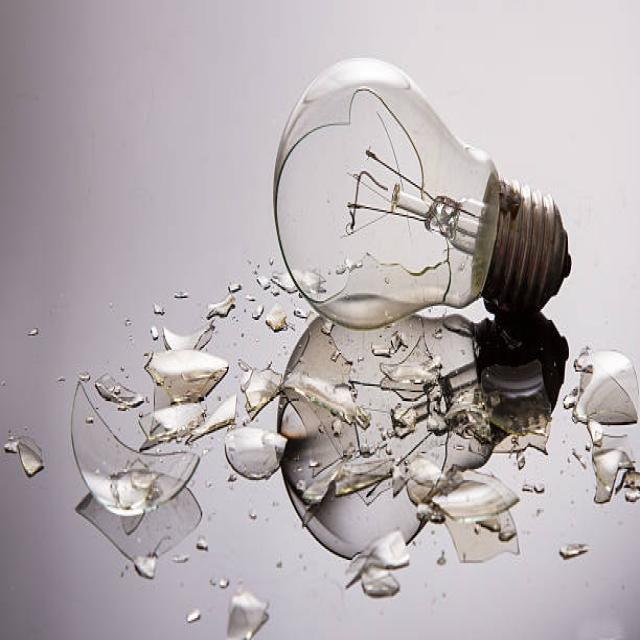bulb: (242, 41, 592, 368)
